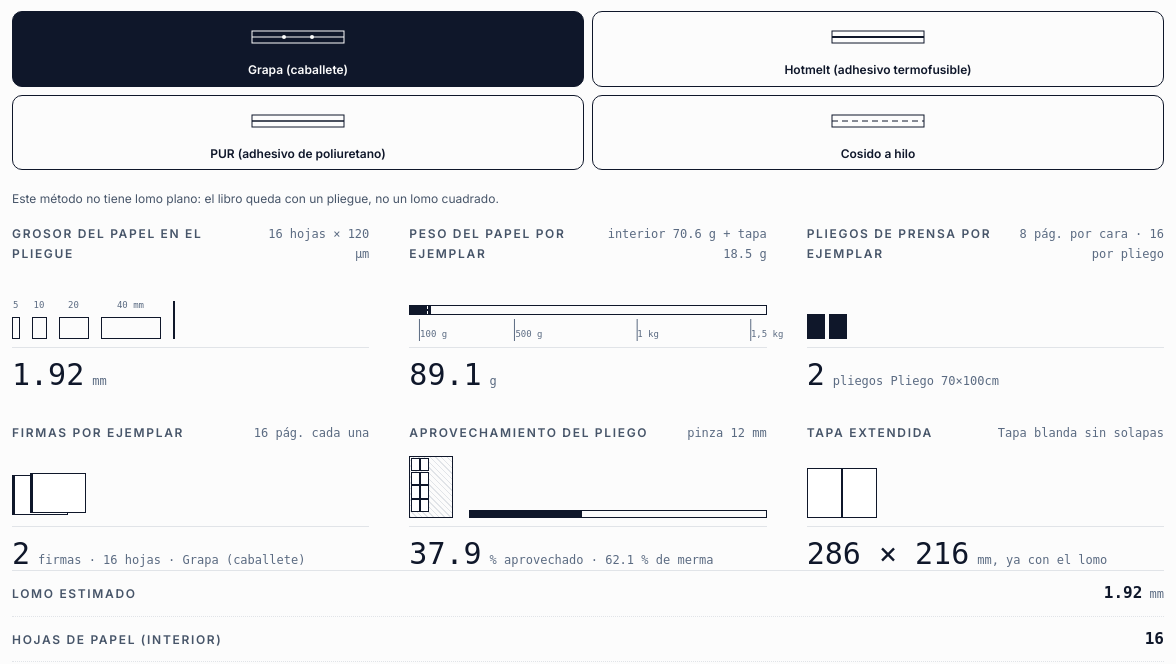
Binding selector › renders the four shipped methods and switching changes the displayed rules
This screenshot has width=1176, height=664.
Click the button "Hotmelt (adhesivo termofusible)" at (878, 37), box [592,11,1164,87]
(page scrolled)
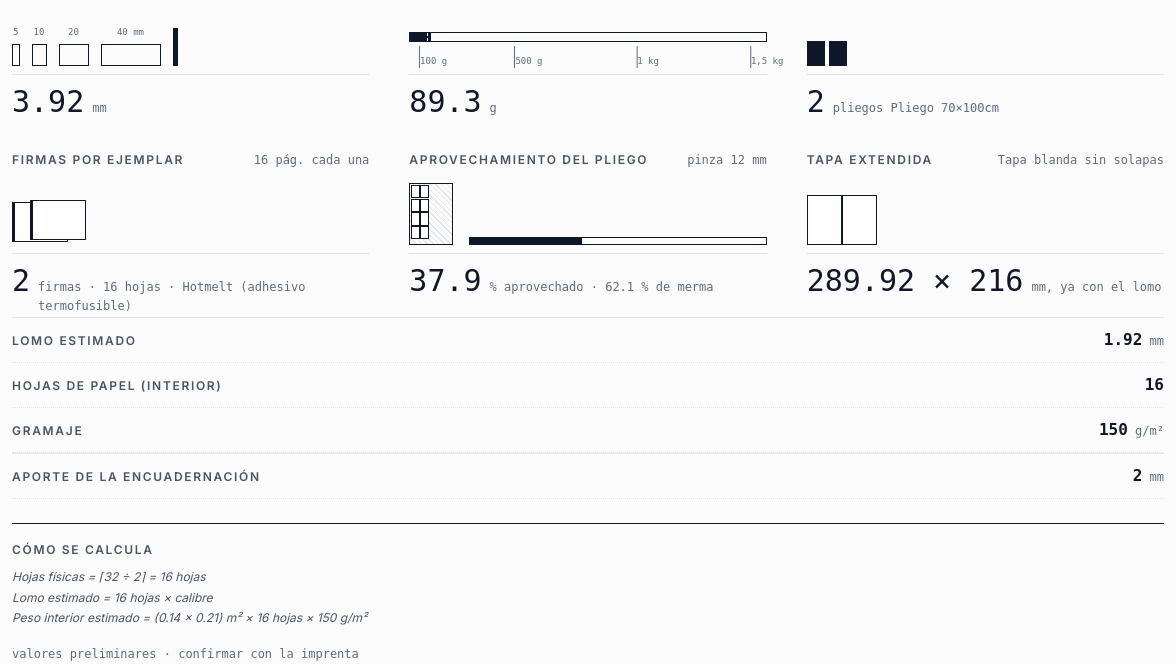
Expected: the element showing "2 mm" is shown, [1133,466,1164,485]
